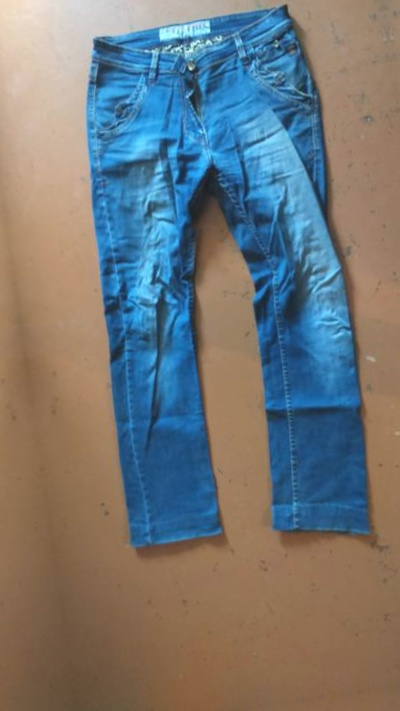Pants: (19, 0, 400, 605), (0, 36, 20, 663)
